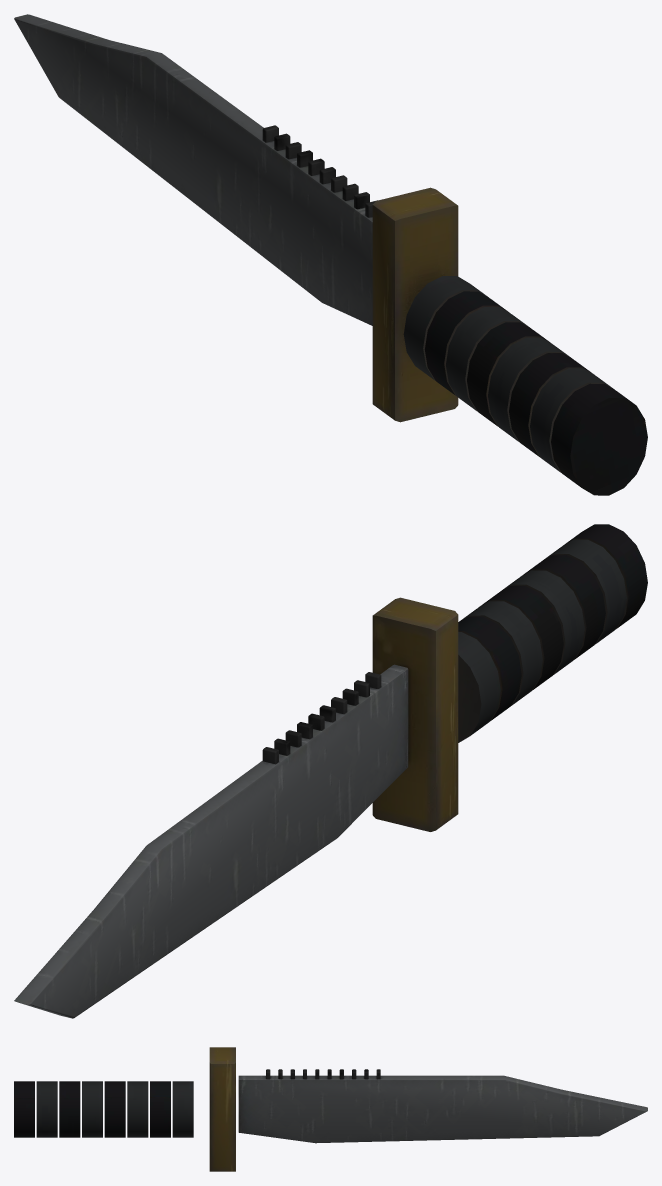
Rendered from knife_huntsman.glb.
The picture shows the model from 3 angles, top to bottom: view 1: azimuth 30°, elevation 25°; view 2: azimuth 150°, elevation 25°; view 3: azimuth 270°, elevation 25°; orthographic projection. The views are drawn at different scales.
Parts seen in each view (by area): view 1: body_receiver, body_metal, body_furniture; view 2: body_receiver, body_metal, body_furniture; view 3: body_receiver, body_metal, body_furniture.
Part boxes in pixels (<box>): body_receiver: <box>14,14,377,325</box>; body_metal: <box>372,187,647,495</box>; body_furniture: <box>403,276,614,472</box>; body_receiver: <box>14,664,408,1018</box>; body_metal: <box>372,524,647,831</box>; body_furniture: <box>458,539,626,742</box>; body_receiver: <box>238,1069,647,1143</box>; body_metal: <box>14,1047,235,1171</box>; body_furniture: <box>36,1081,193,1137</box>.
Size of the model in its own units: 0.0256 by 0.064 by 0.3355.
3 materials, 3 textured.
